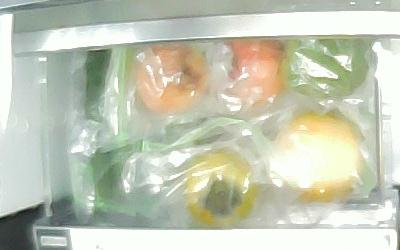apple_vinyl: (224, 36, 289, 106)
broccoli_vinyl: (283, 38, 369, 98)
cucumber_vinyl: (86, 48, 116, 199)
grapefruit_vinyl: (273, 111, 364, 204)
peach_vinyl: (136, 43, 209, 115)
persimmon_vinyl: (185, 149, 257, 228)
